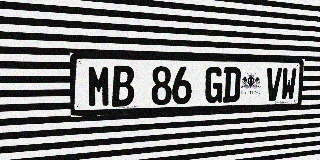6: (172, 66, 192, 104)
8: (151, 66, 172, 105)
B: (112, 66, 134, 107)
D: (223, 67, 241, 103)
G: (204, 67, 223, 103)
M: (87, 65, 111, 108)
V: (265, 68, 282, 101)
W: (280, 68, 297, 100)
